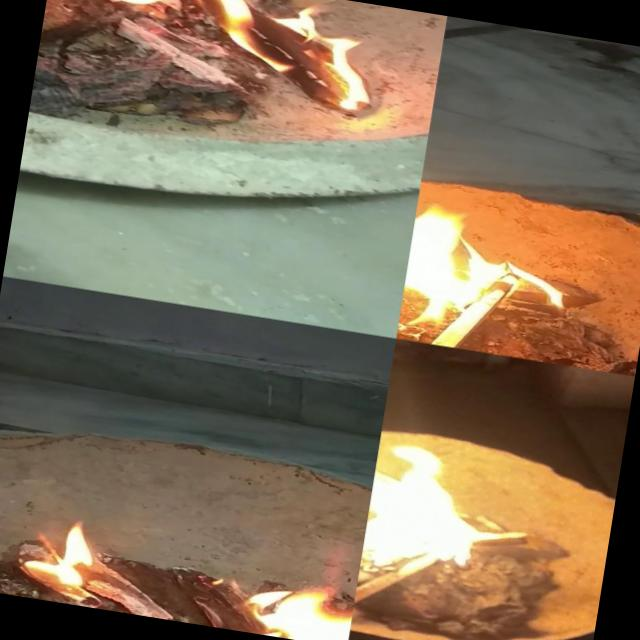fire: (37, 0, 397, 115), (396, 192, 586, 366), (360, 418, 500, 590), (11, 496, 111, 600), (223, 563, 357, 640)
